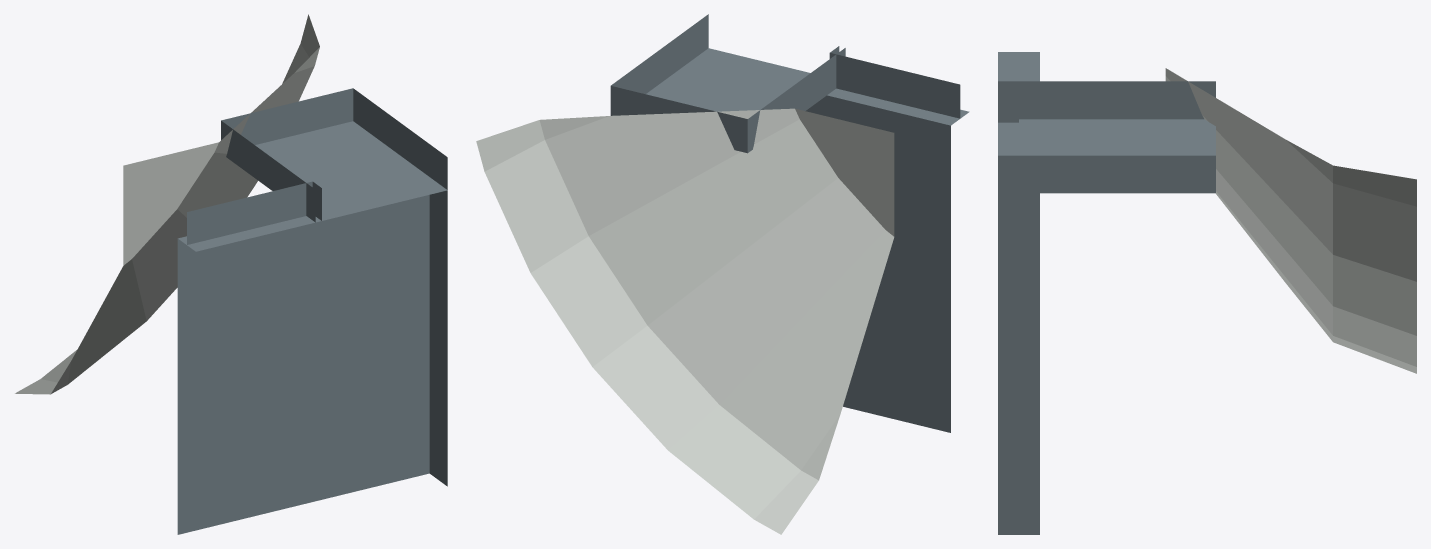
The model's file is cell_83.obj.
3 renders of one model, left to right at view 1: azimuth 30°, elevation 25°; view 2: azimuth 150°, elevation 25°; view 3: azimuth 270°, elevation 25°, orthographic. The views are drawn at different scales.
Bounding box in the file's own units: 0.9349 × 1 × 1.
